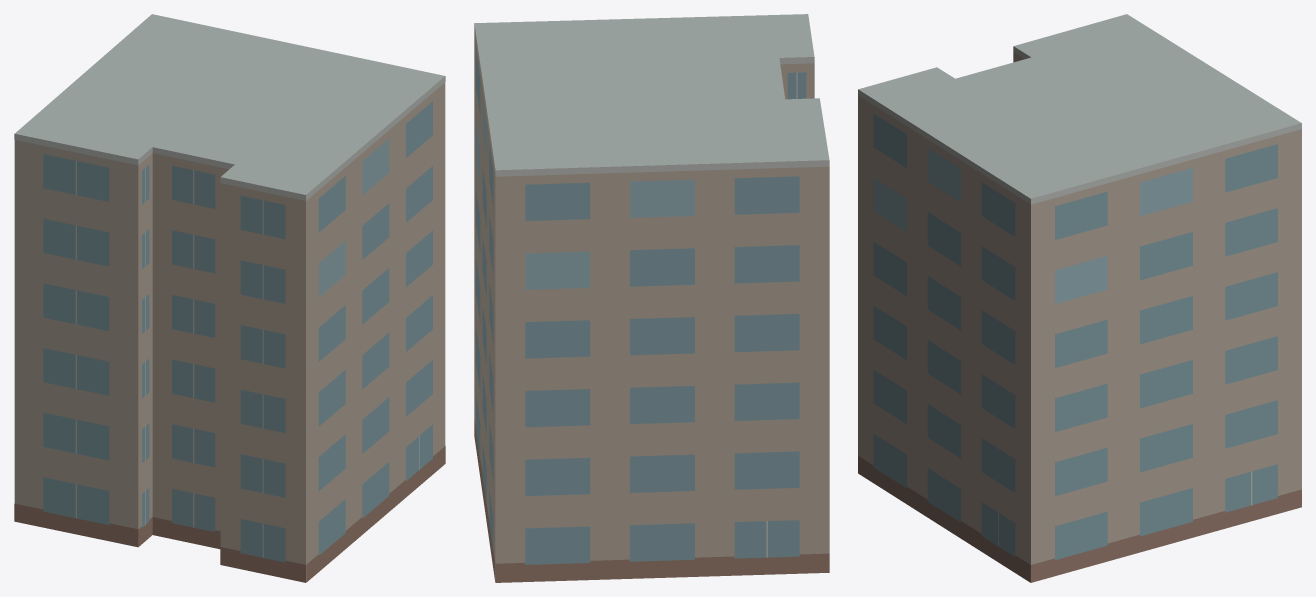
The model's file is survey-upis-32887529.glb.
3 views of the same model, side by side, from view 1: azimuth 30°, elevation 25°; view 2: azimuth 150°, elevation 25°; view 3: azimuth 270°, elevation 25° (orthographic). The views are drawn at different scales.
Visible parts, largest first — view 1: survey-upis-32887529.tmp; view 2: survey-upis-32887529.tmp; view 3: survey-upis-32887529.tmp.
Part boxes in pixels (box(x1,y1,x2,y2)): survey-upis-32887529.tmp: box(14, 14, 445, 582); survey-upis-32887529.tmp: box(474, 14, 829, 582); survey-upis-32887529.tmp: box(858, 14, 1301, 582).
Bounding box in the file's own units: 16.31 × 15.8 × 16.55.
